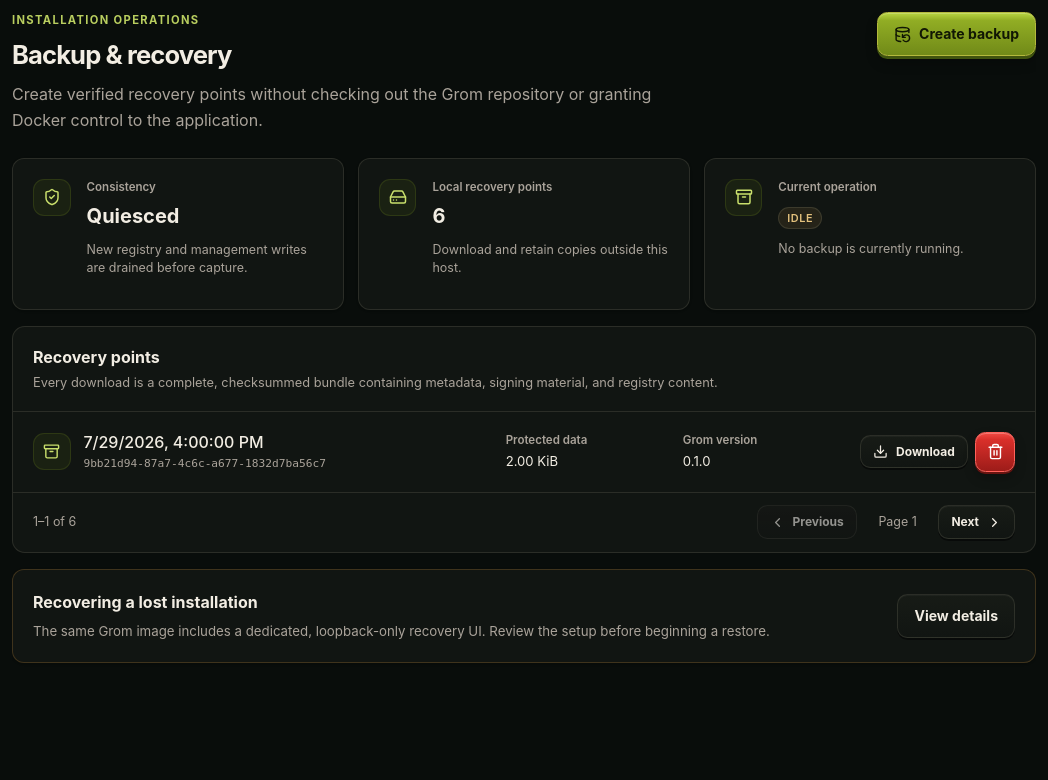
Test: BackupsPage › loads the next five-item page with the opaque cursor
Click the button "Next".
click(977, 522)  # box [938,505,1015,539]
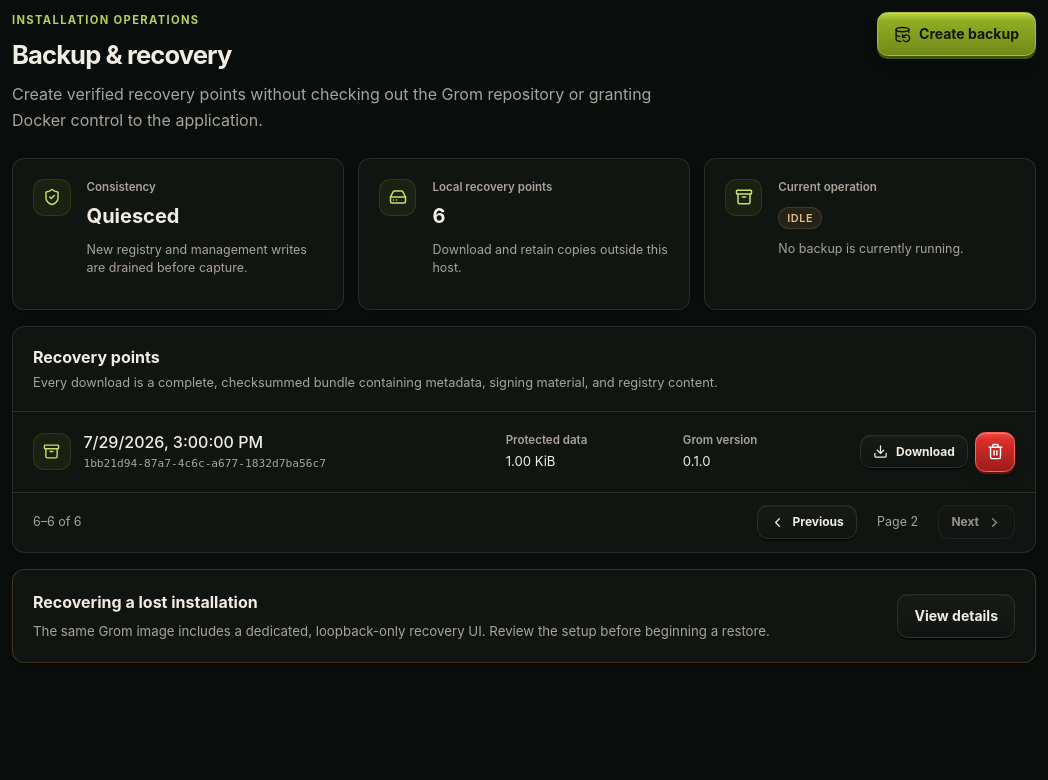
Now the text "Page 2" is shown, box [877,514,918,529]
